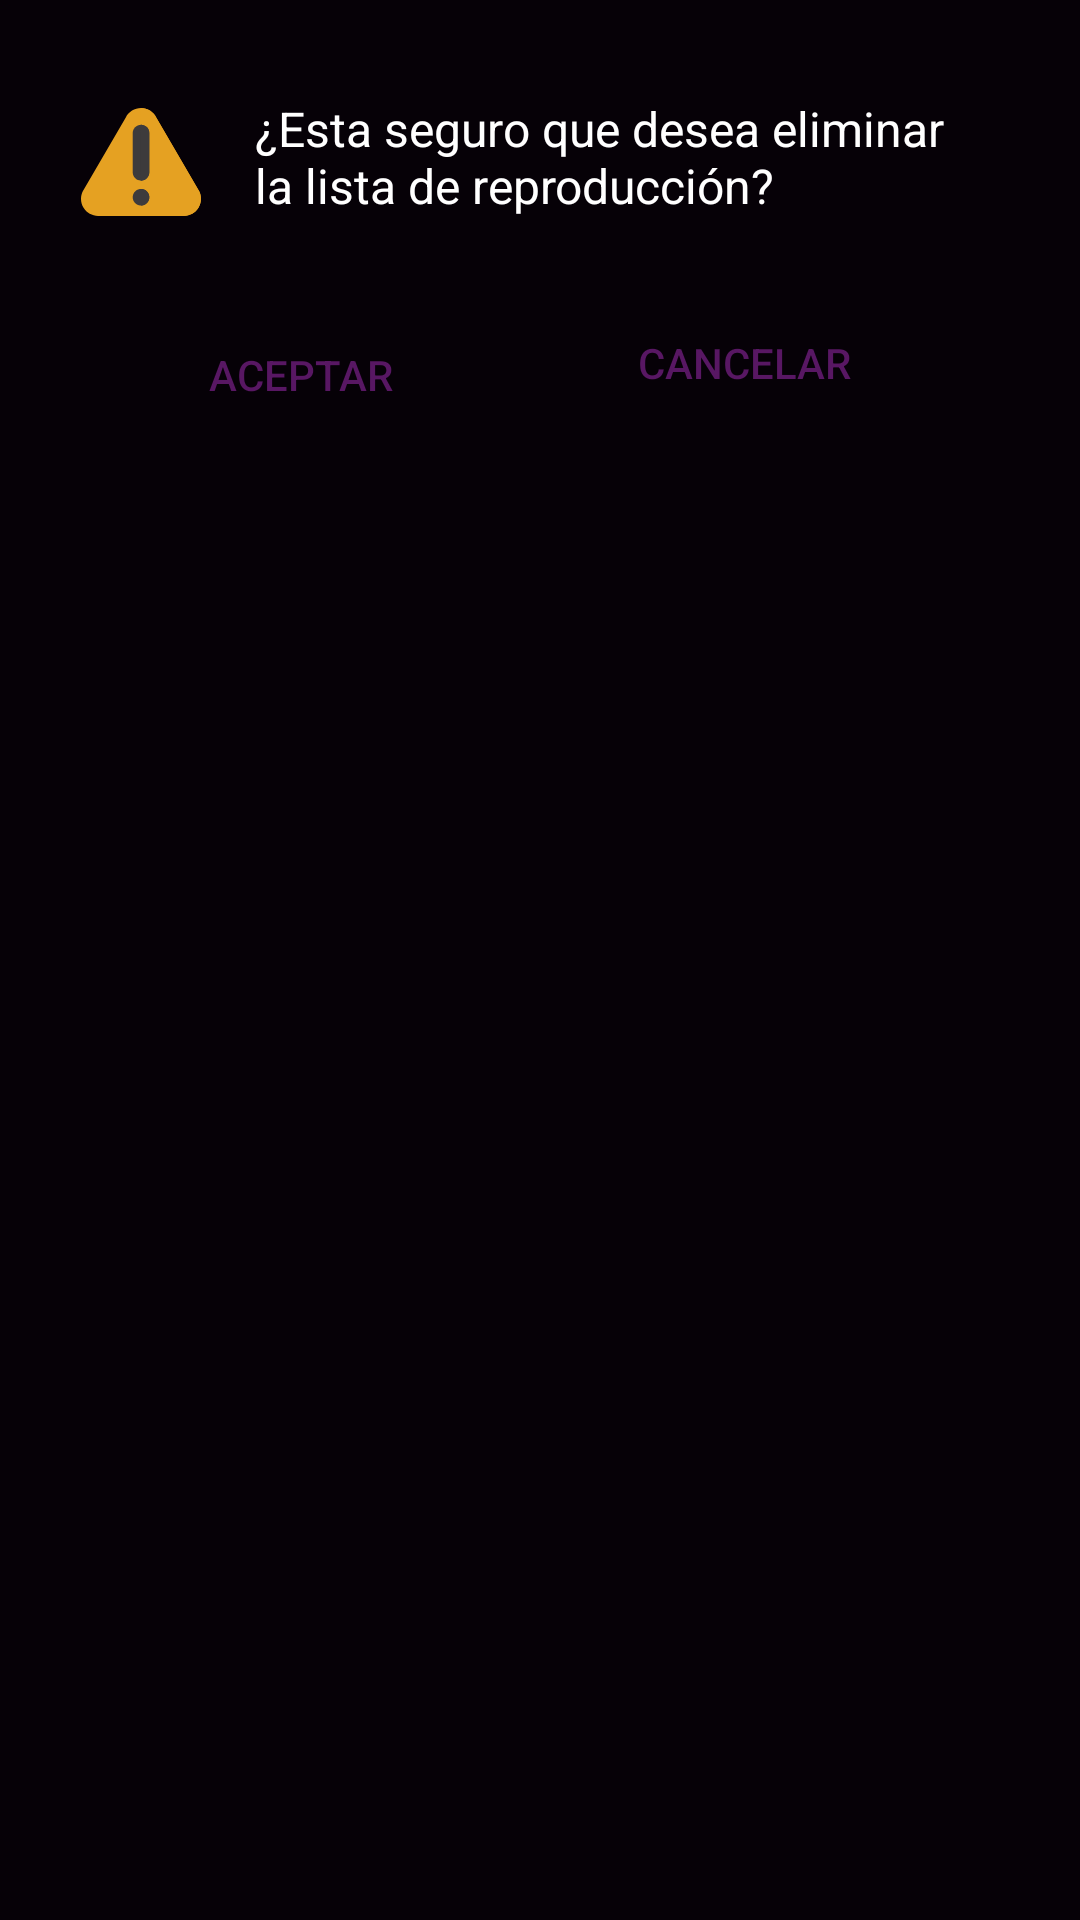

Screen size 1080w x 1920h. Icon name, then its center in pixels as [x,y]:
warning: [141,162]
